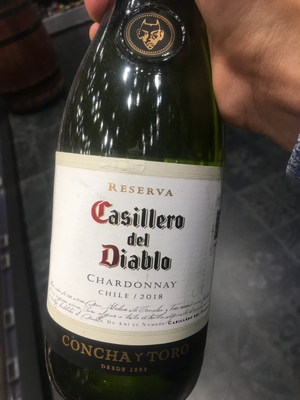casillero del diablo chardonnay: (35, 47, 236, 397)
